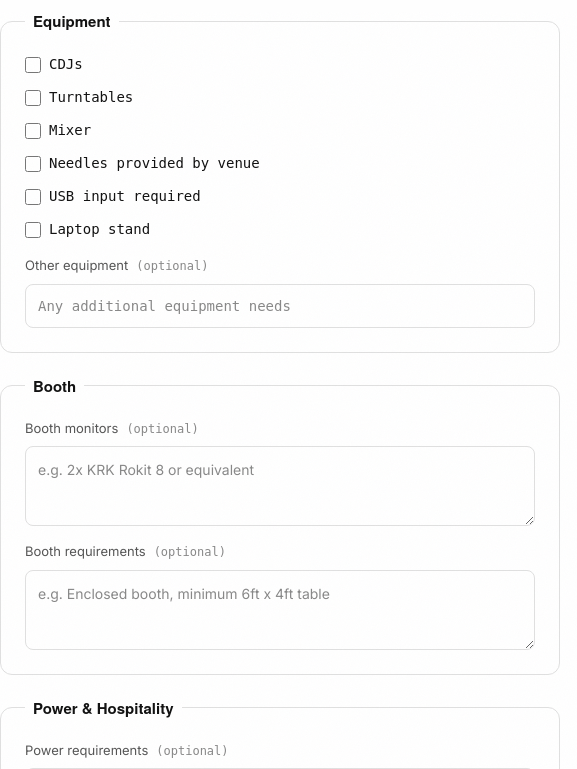
RiderForm › shows mixer model input when Mixer checkbox is checked
Expected: the field labelled "Mixer model" is not shown
Click the checkbox labelled "Mixer".
click(33, 130)  # box [25,122,41,138]
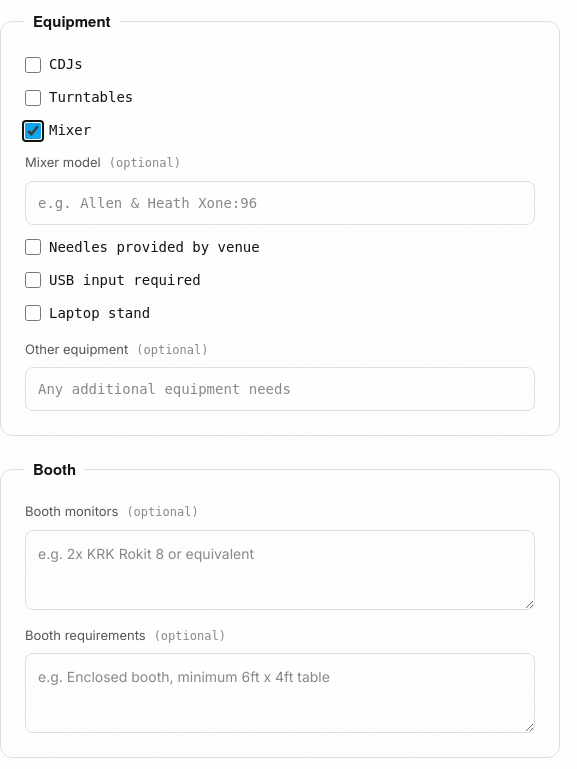
Expected: the field labelled "Mixer model (optional)" is shown, [25,180,535,224]
